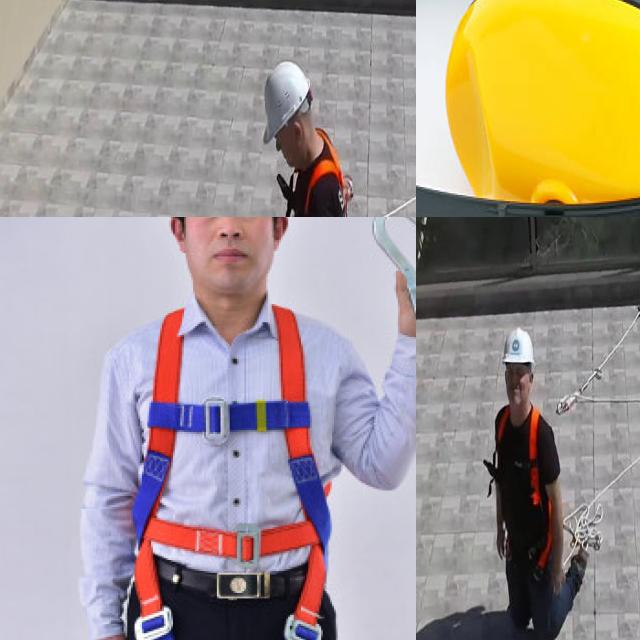Ear-protection: (416, 0, 640, 217)
Harness: (127, 304, 332, 640), (556, 306, 640, 414), (371, 217, 416, 337), (527, 407, 557, 571), (297, 129, 347, 217)
No_Glasses: (195, 217, 265, 227)
